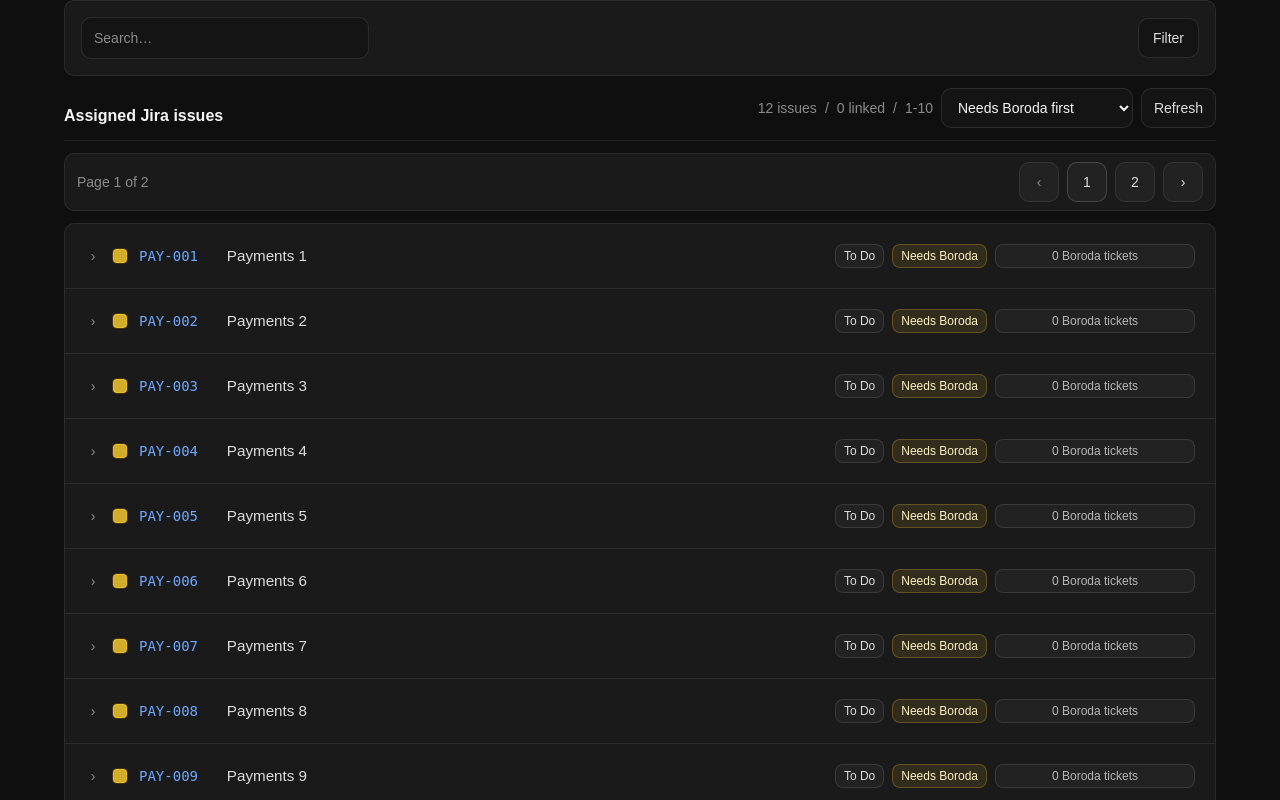
JiraPage › resets Jira issue pagination when filtering changes the result set
Click the button named "Next page" at (1183, 182), box [1163,162,1203,202]
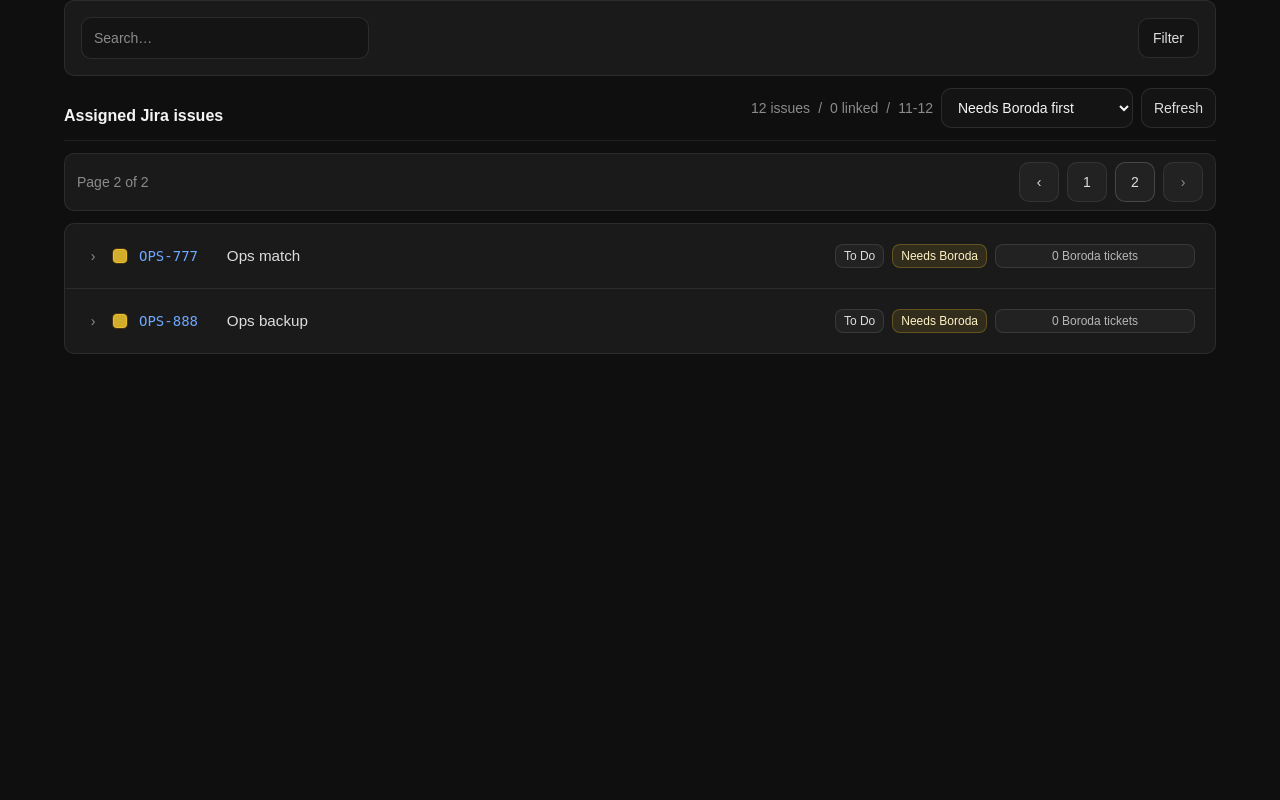
Check: the text "Page 2 of 2" is shown, box [77,172,149,192]
Type "ops" into the search field labelled "Search" at (225, 38), box [81,17,369,59]
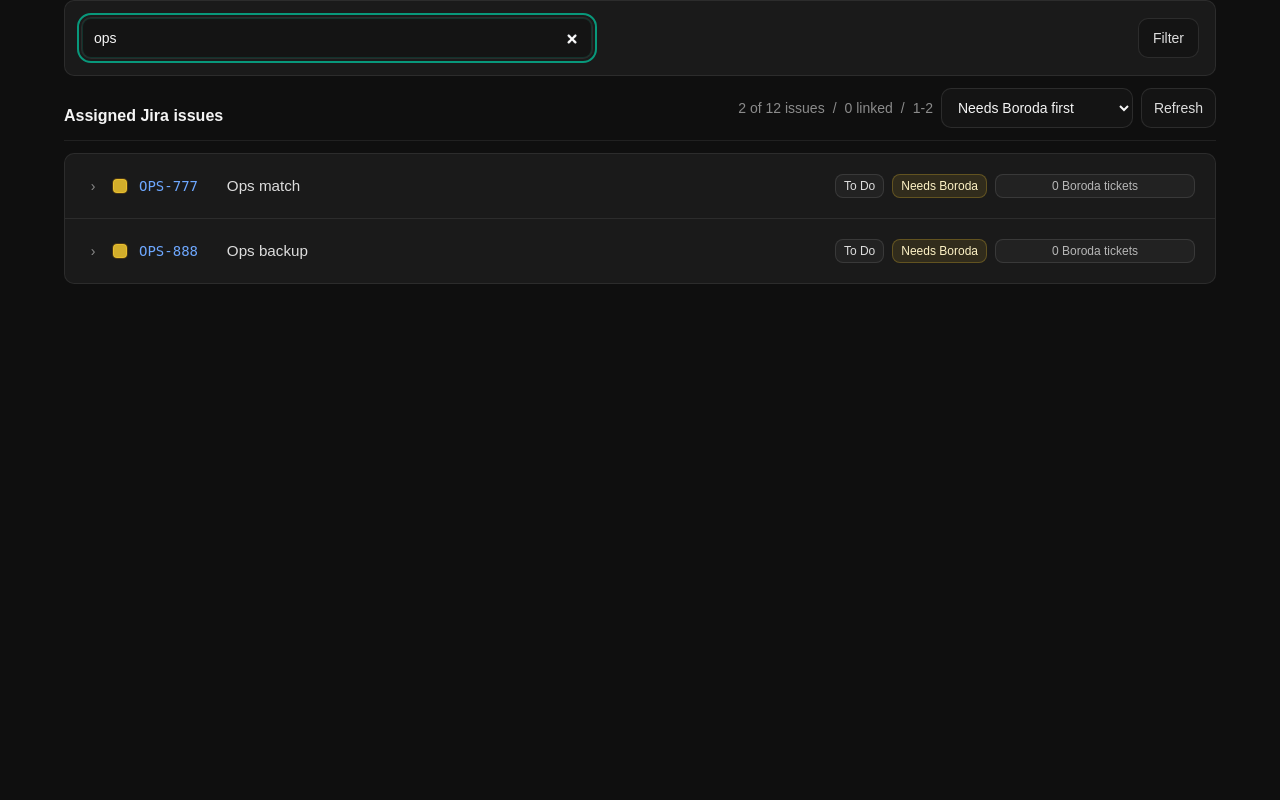
Check: the link with aria-label "Open Jira issue OPS-777" is shown, box [139,178,198,194]
Check: the text "Page 2 of 2" is gone
